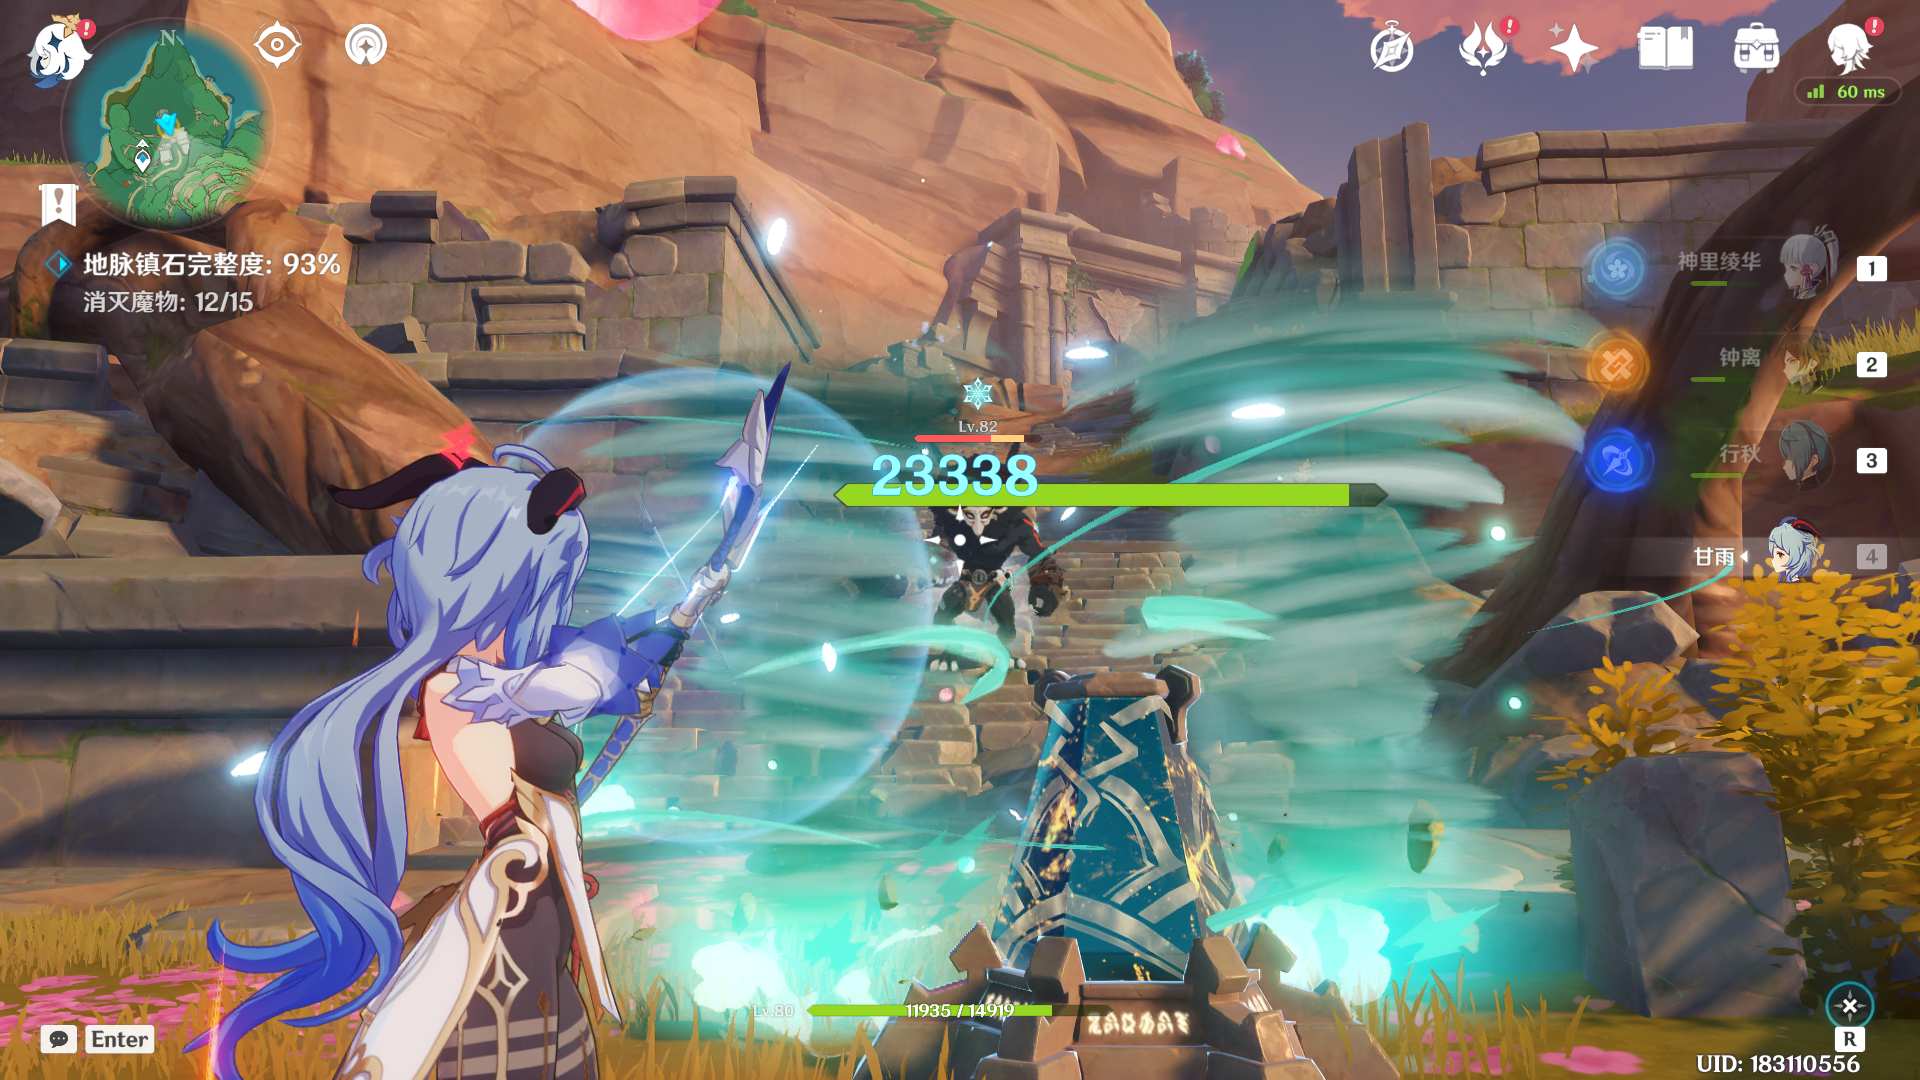bighili: (901, 435, 1065, 671)
character: (175, 400, 727, 1080)
